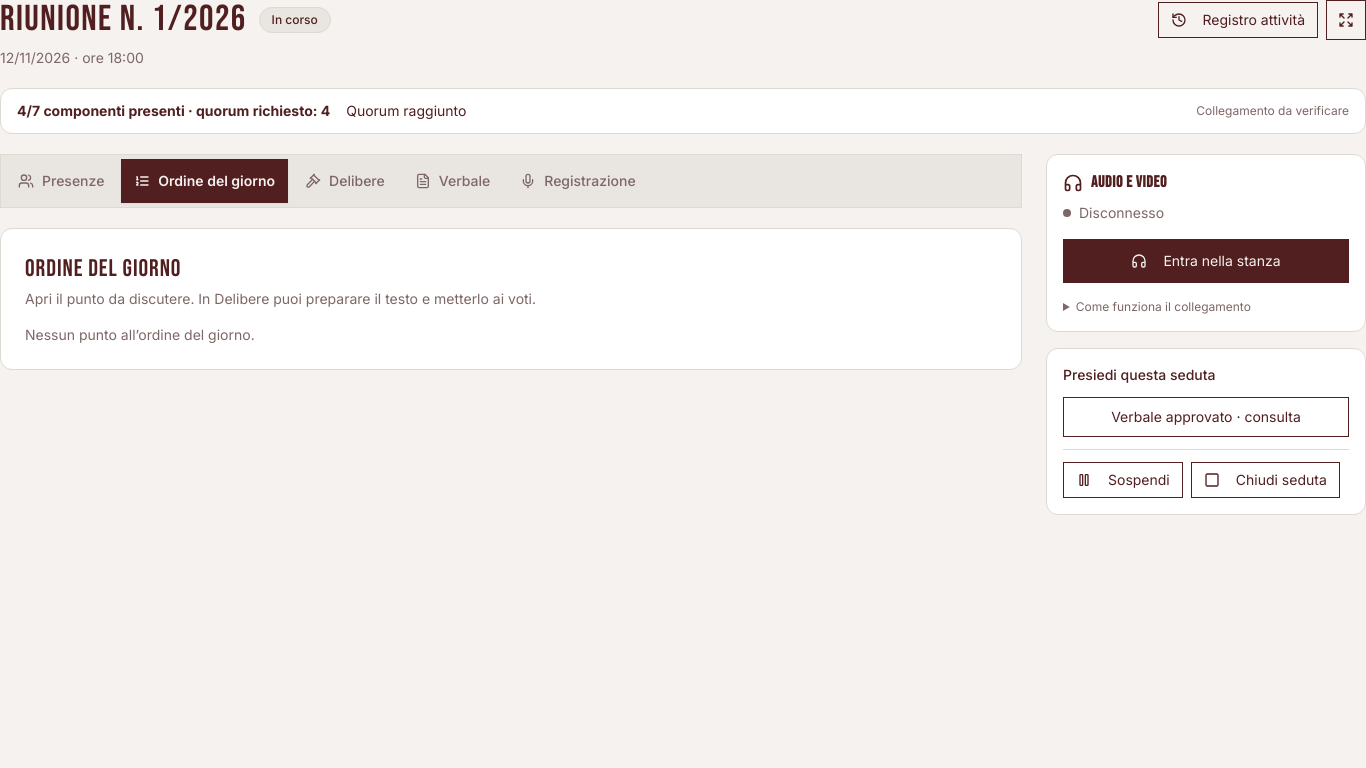
Scenario: Closing a Board meeting › does not demand a reason or show an unapproved warning after approval
Later steps or results of the test are not shown.
Expected: the text "Quorum raggiunto" is shown, x1=346 y1=101 x2=466 y2=121
Click the button "Chiudi seduta" at (1265, 480), box x1=1191 y1=462 x2=1340 y2=498
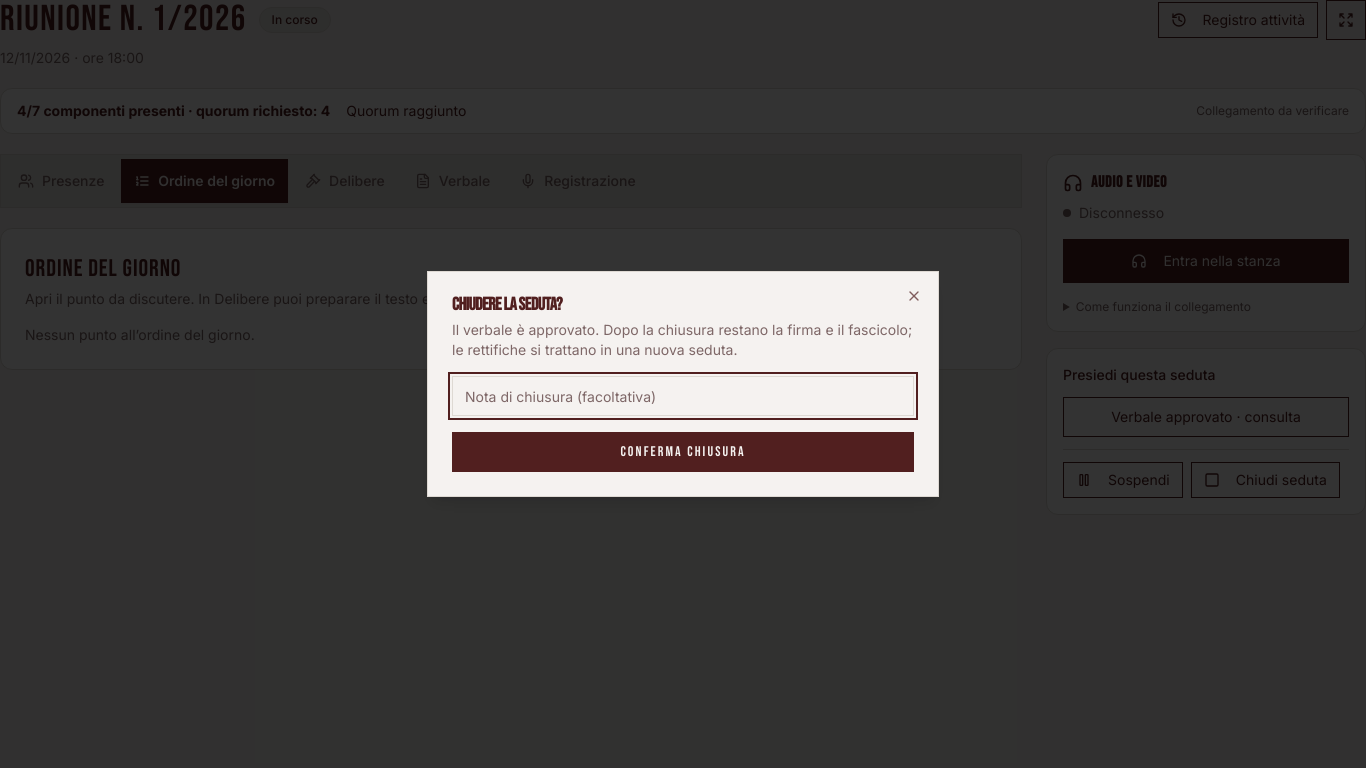
Expected: the text "Il verbale è approvato" is shown, x1=452 y1=321 x2=912 y2=358
